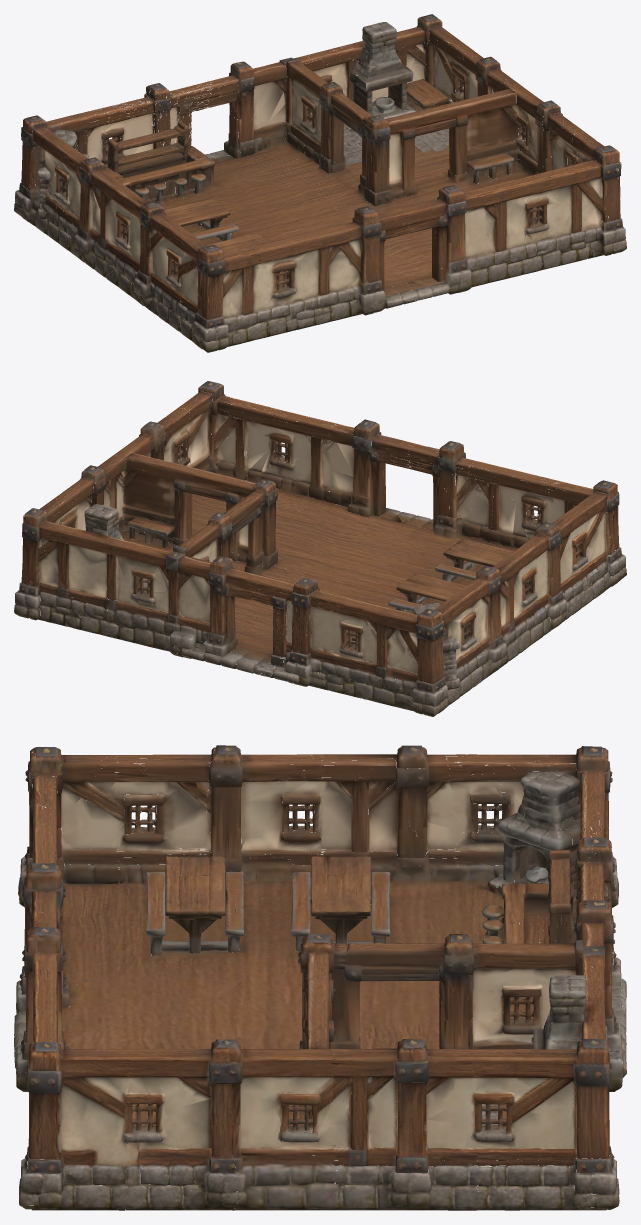
The model's file is tavern.glb.
3 renders of one model, top to bottom at view 1: azimuth 30°, elevation 25°; view 2: azimuth 150°, elevation 25°; view 3: azimuth 270°, elevation 25°, orthographic. The views are drawn at different scales.
Visible parts, largest first — view 1: nebeljagd-tripo-tavern; view 2: nebeljagd-tripo-tavern; view 3: nebeljagd-tripo-tavern.
Boxes of the visible parts, x1,y1,x2,y2 form: nebeljagd-tripo-tavern: [14, 14, 626, 352]; nebeljagd-tripo-tavern: [14, 381, 626, 716]; nebeljagd-tripo-tavern: [14, 745, 626, 1210].
Size of the model in its own units: 22 by 5.64 by 17.77.
1 material, 1 textured.
